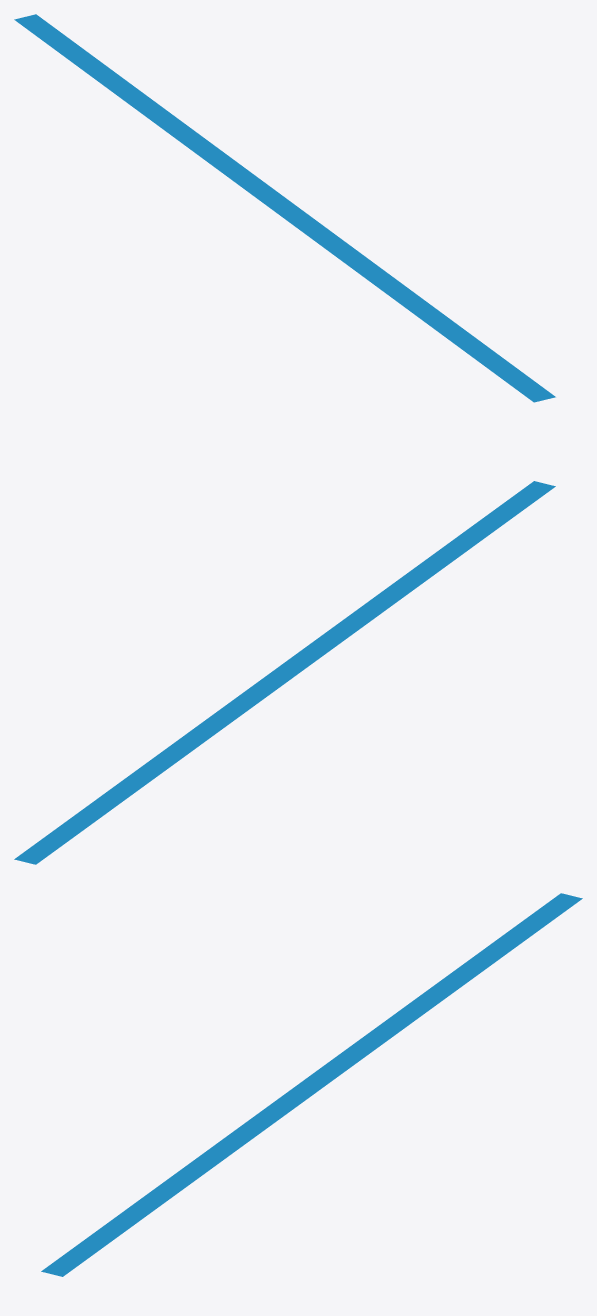
Rendered from guide.glb.
3 renders of one model, top to bottom at view 1: azimuth 30°, elevation 25°; view 2: azimuth 150°, elevation 25°; view 3: azimuth 330°, elevation 25°, orthographic.
Visible parts, largest first — view 1: static; view 2: static; view 3: static.
Boxes of the visible parts, x1,y1,x2,y2 form: static: (14, 14, 555, 402); static: (14, 481, 555, 864); static: (41, 893, 582, 1276).
Bounding box in the file's own units: 1 × 0 × 14.
